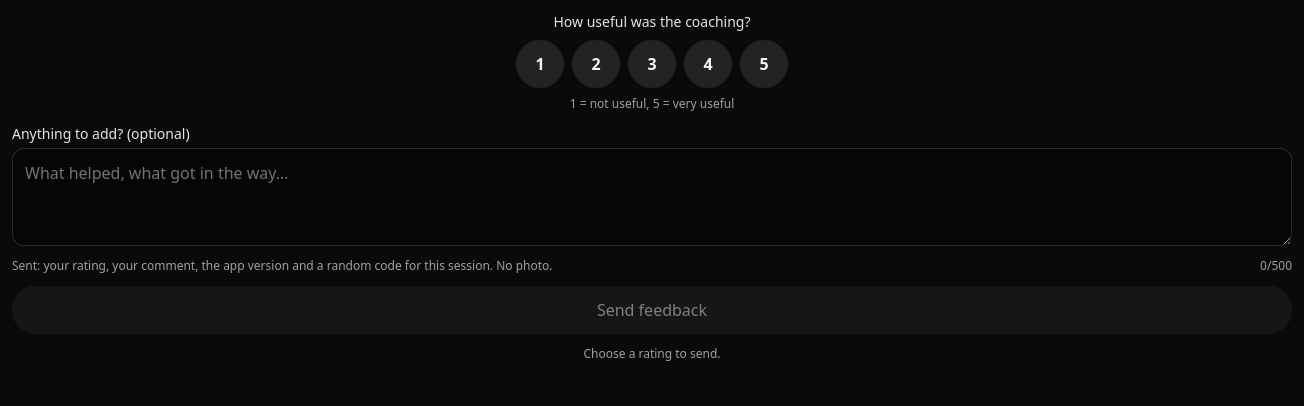
Scenario: FeedbackForm › treats a thrown error as not saved
The width and height of the screenshot is (1304, 406).
Step 1. Click the radio button labelled "1" → (540, 64), box [516, 40, 564, 88]
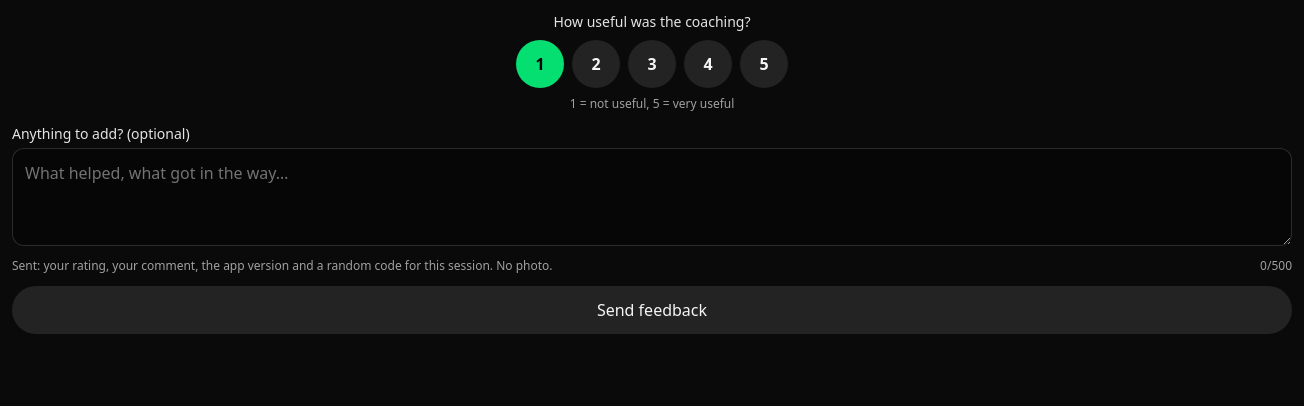
Step 2. Click the button "Send feedback" → (652, 310), box [12, 286, 1292, 334]
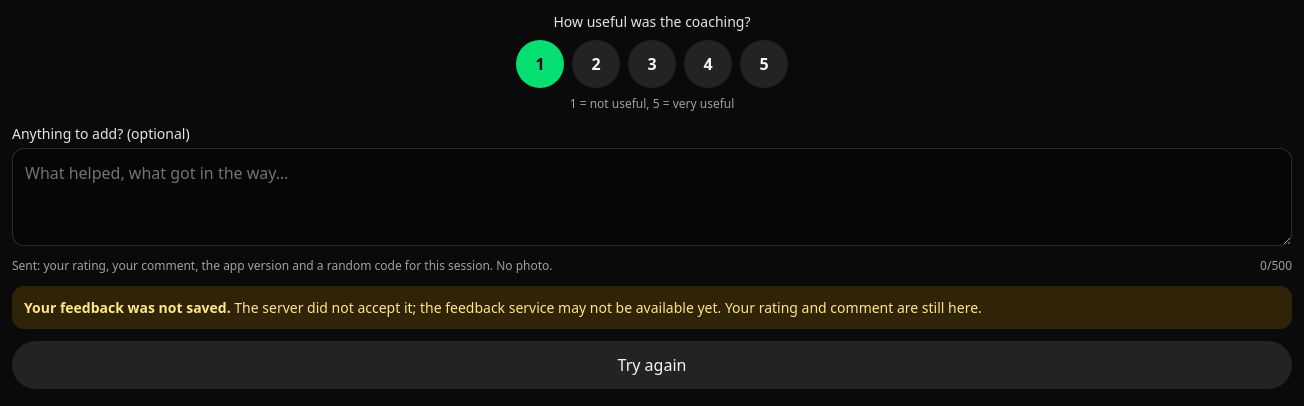
Check: the message shows "Your feedback was not saved.", box [24, 298, 231, 317]
